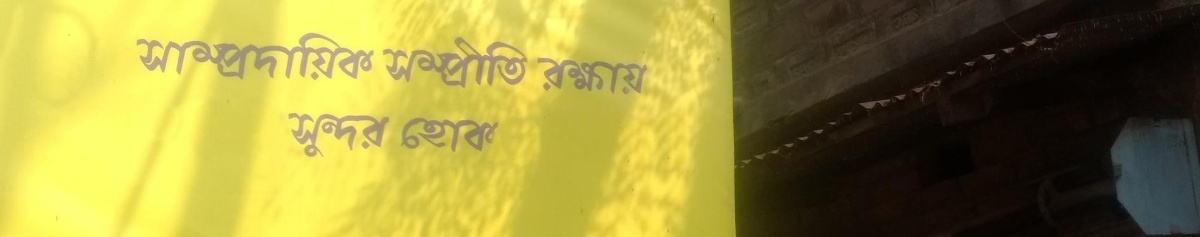text: (385, 37, 400, 90), (401, 37, 416, 90), (417, 37, 432, 90), (433, 37, 448, 90), (449, 37, 464, 90), (465, 37, 480, 90), (481, 37, 496, 90), (497, 37, 512, 90), (513, 37, 528, 90), (145, 33, 160, 83), (161, 33, 176, 83), (177, 33, 192, 83), (193, 33, 208, 83), (209, 33, 224, 83), (225, 33, 240, 83), (241, 33, 256, 83), (257, 33, 272, 83), (273, 33, 288, 83), (289, 33, 304, 83), (305, 33, 320, 83), (321, 33, 336, 83), (337, 33, 352, 83), (353, 33, 368, 83), (289, 111, 304, 158), (305, 111, 320, 158), (321, 111, 336, 158), (337, 111, 352, 158), (353, 111, 368, 158), (369, 111, 384, 158), (545, 57, 560, 96), (561, 57, 576, 96), (577, 57, 592, 96), (593, 57, 608, 96), (609, 57, 624, 96), (625, 57, 640, 96), (417, 117, 432, 153), (433, 117, 448, 153), (449, 117, 464, 153), (465, 117, 480, 153), (481, 117, 496, 153), (403, 117, 416, 153), (137, 33, 144, 83), (369, 33, 376, 83), (641, 57, 649, 96), (385, 111, 390, 158), (538, 57, 544, 96), (497, 117, 500, 153), (529, 37, 531, 90)
